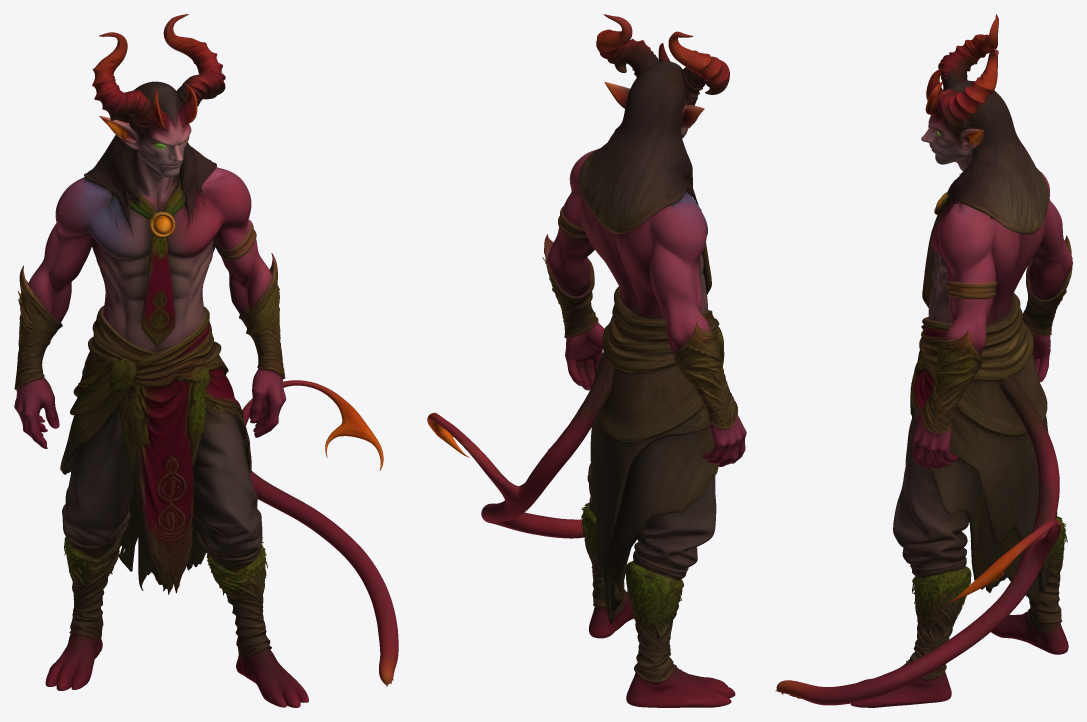
The model's file is tiefling_druid_full_male_01.glb.
The picture shows the model from 3 angles, left to right: view 1: azimuth 30°, elevation 25°; view 2: azimuth 150°, elevation 25°; view 3: azimuth 270°, elevation 25°; orthographic projection. The views are drawn at different scales.
Visible parts, largest first — view 1: material; view 2: material; view 3: material.
Boxes of the visible parts, box(x1,y1,x2,y2) form: material: box(14, 14, 398, 707); material: box(427, 14, 746, 707); material: box(775, 14, 1072, 707).
Bounding box in the file's own units: 0.5696 × 1.06 × 0.4558.
Materials: 1 (1 with a texture image).
